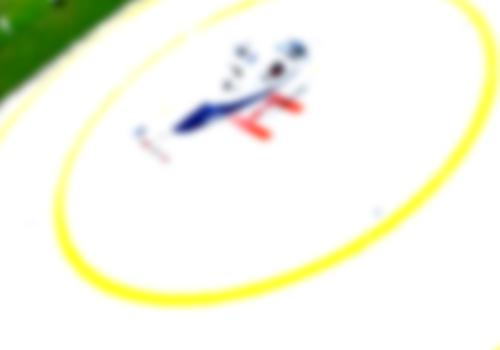Apron: (49, 1, 499, 313)
